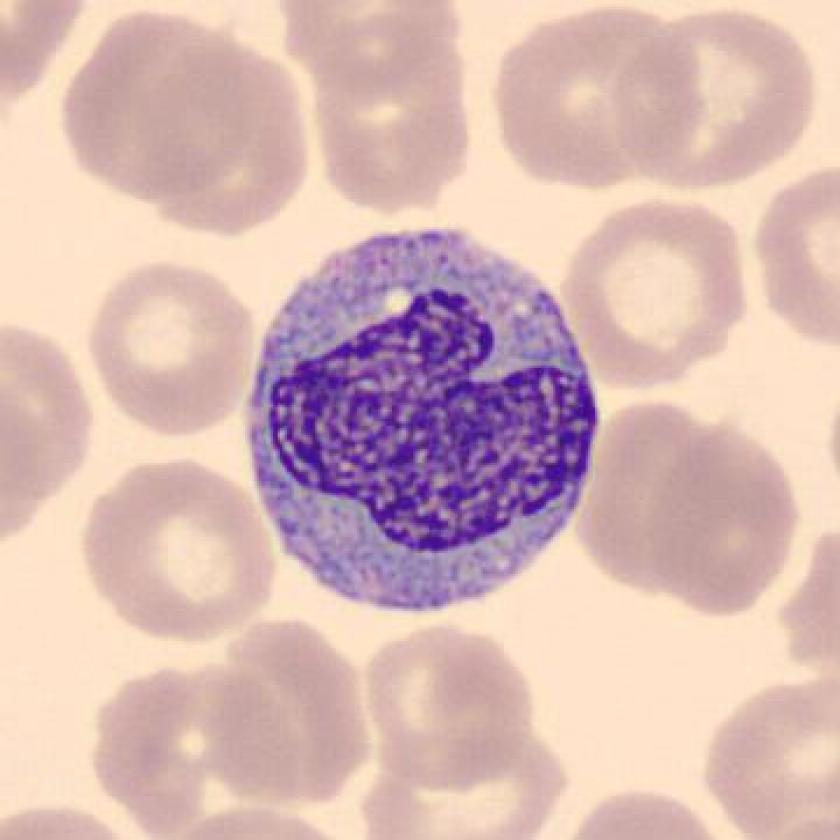monocyte: (239, 216, 619, 635)
